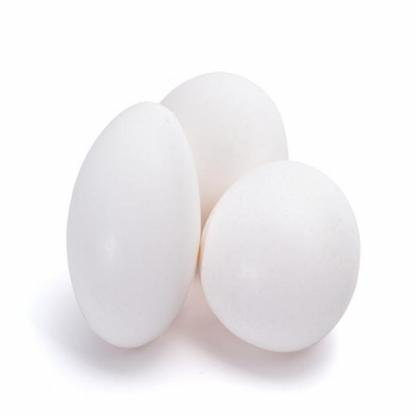egg: (56, 81, 206, 354), (192, 154, 370, 360), (147, 47, 293, 227)
